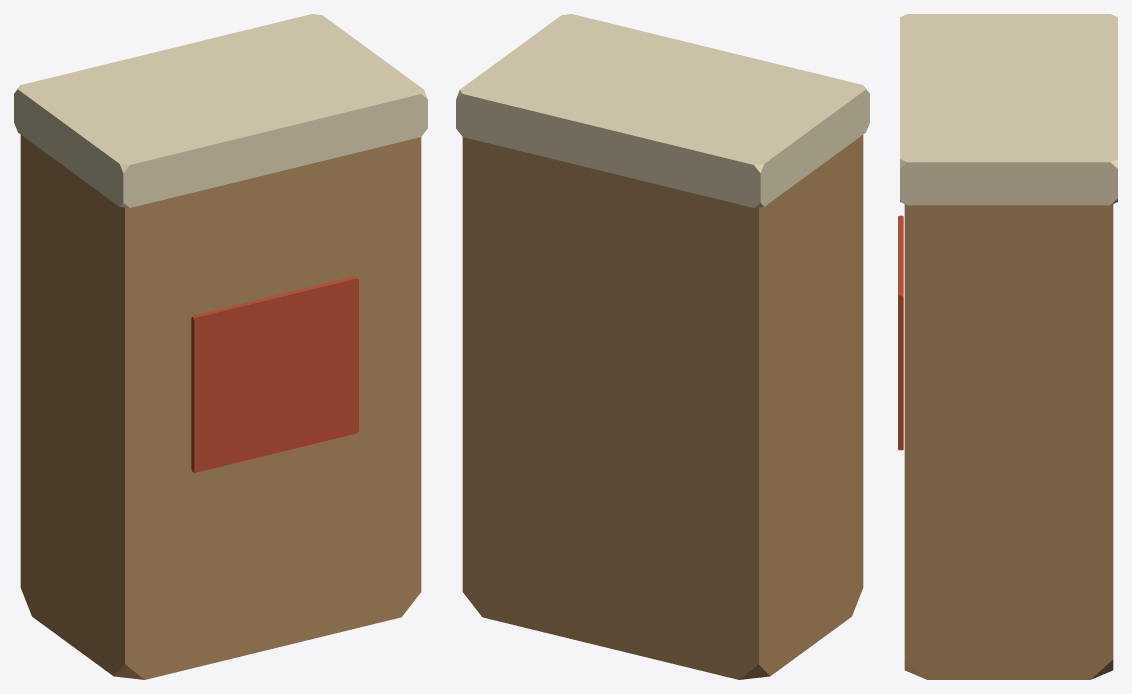
The model's file is TakeawayBag.glb.
The picture shows the model from 3 angles, left to right: view 1: azimuth 30°, elevation 25°; view 2: azimuth 150°, elevation 25°; view 3: azimuth 270°, elevation 25°; orthographic projection.
Parts seen in each view (by area): view 1: TakeawayBag; view 2: TakeawayBag; view 3: TakeawayBag.
Part boxes in pixels (bbox=[...]): TakeawayBag: bbox=[14, 14, 427, 679]; TakeawayBag: bbox=[456, 14, 869, 679]; TakeawayBag: bbox=[898, 14, 1117, 679].
Size of the model in its own units: 0.185 by 0.3025 by 0.116.
